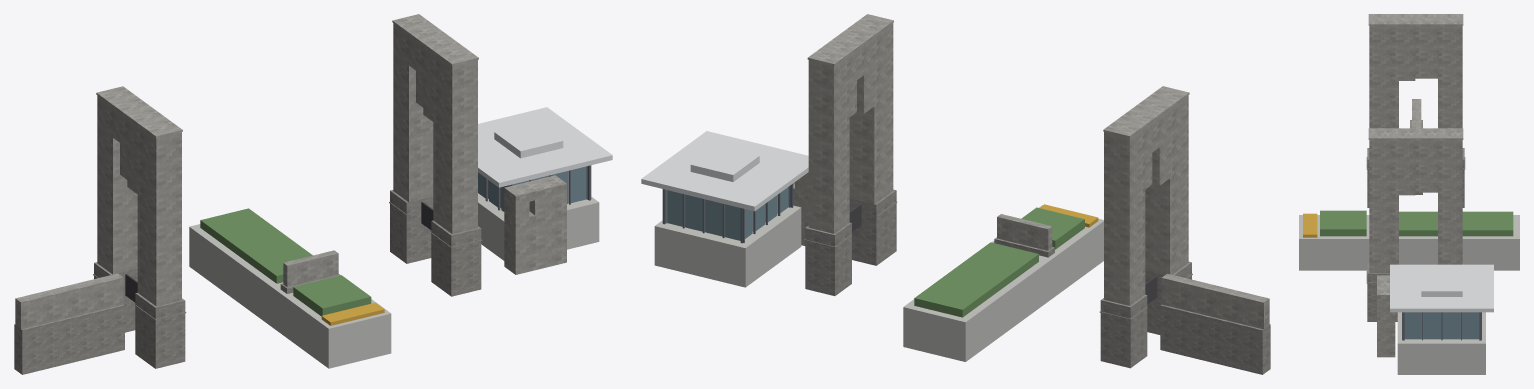
3 renders of one model, left to right at view 1: azimuth 30°, elevation 25°; view 2: azimuth 150°, elevation 25°; view 3: azimuth 270°, elevation 25°, orthographic. The views are drawn at different scales.
Parts seen in each view (by area): view 1: mainGate__granite, mainGate__graniteBase, mainGate__kerb, mainGate__roofSlab, mainGate__hedge, mainGate__glass, mainGate__flowers, mainGate__gateSteel; view 2: mainGate__granite, mainGate__kerb, mainGate__graniteBase, mainGate__roofSlab, mainGate__hedge, mainGate__glass, mainGate__frame, mainGate__gateSteel; view 3: mainGate__granite, mainGate__kerb, mainGate__roofSlab, mainGate__hedge, mainGate__glass, mainGate__graniteBase, mainGate__flowers, mainGate__frame.
Boxes of the visible parts, x1=… form: mainGate__granite: x1=15, y1=14, x2=566, y2=329; mainGate__graniteBase: x1=14, y1=190, x2=482, y2=374; mainGate__kerb: x1=189, y1=193, x2=599, y2=368; mainGate__roofSlab: x1=478, y1=107, x2=612, y2=187; mainGate__hedge: x1=200, y1=208, x2=371, y2=316; mainGate__glass: x1=478, y1=166, x2=587, y2=211; mainGate__flowers: x1=321, y1=302, x2=384, y2=325; mainGate__gateSteel: x1=125, y1=201, x2=433, y2=302; mainGate__granite: x1=793, y1=14, x2=1269, y2=329; mainGate__kerb: x1=654, y1=205, x2=1103, y2=361; mainGate__graniteBase: x1=804, y1=189, x2=1270, y2=374; mainGate__roofSlab: x1=641, y1=131, x2=808, y2=211; mainGate__hedge: x1=914, y1=207, x2=1084, y2=317; mainGate__glass: x1=666, y1=186, x2=790, y2=240; mainGate__frame: x1=662, y1=183, x2=793, y2=243; mainGate__gateSteel: x1=849, y1=204, x2=1157, y2=304; mainGate__granite: x1=1368, y1=14, x2=1463, y2=357; mainGate__kerb: x1=1299, y1=215, x2=1519, y2=374; mainGate__roofSlab: x1=1390, y1=264, x2=1493, y2=312; mainGate__hedge: x1=1320, y1=210, x2=1513, y2=236; mainGate__glass: x1=1404, y1=312, x2=1479, y2=339; mainGate__graniteBase: x1=1366, y1=120, x2=1465, y2=321; mainGate__flowers: x1=1303, y1=213, x2=1317, y2=237; mainGate__frame: x1=1402, y1=312, x2=1481, y2=340.
Size of the model in its own units: 40.6 by 15.54 by 17.
11 materials, 2 textured.
